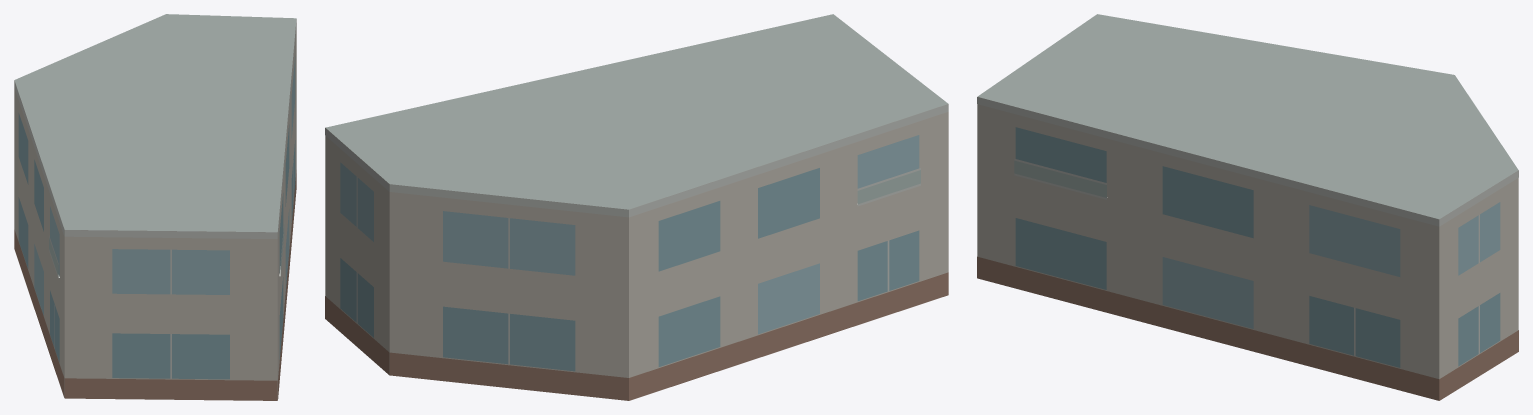
File: survey-upis-33038191.glb
3 views of the same model, side by side, from view 1: azimuth 30°, elevation 25°; view 2: azimuth 150°, elevation 25°; view 3: azimuth 270°, elevation 25° (orthographic). The views are drawn at different scales.
Visible parts, largest first — view 1: survey-upis-33038191.tmp; view 2: survey-upis-33038191.tmp; view 3: survey-upis-33038191.tmp.
Boxes of the visible parts, x1,y1,x2,y2 form: survey-upis-33038191.tmp: [14, 14, 296, 400]; survey-upis-33038191.tmp: [325, 14, 948, 400]; survey-upis-33038191.tmp: [977, 14, 1518, 400].
Size of the model in its own units: 13.35 by 5.5 by 14.88.
